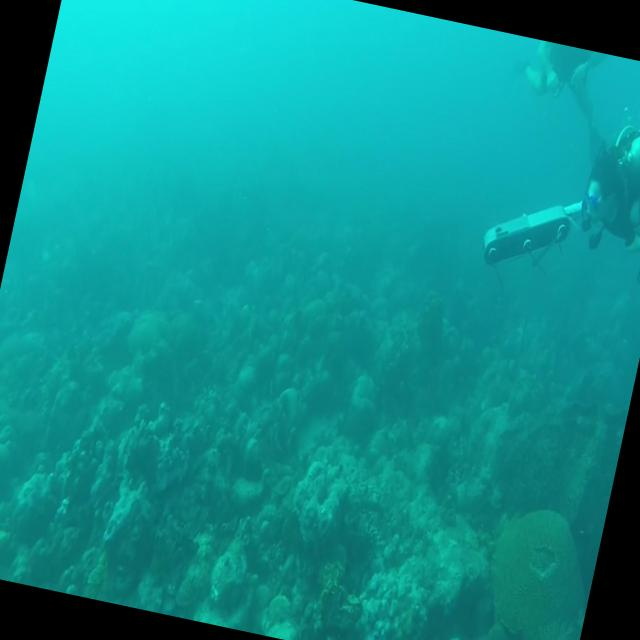human: (565, 88, 640, 286), (508, 38, 620, 160)
